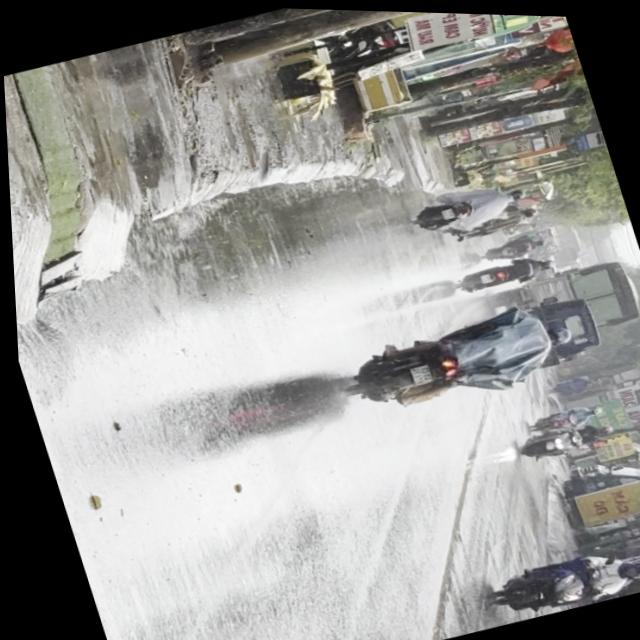helmet: (544, 319, 574, 344), (617, 552, 640, 579)
licenseplate: (327, 285, 591, 429), (477, 529, 640, 625)
nohelmet: (407, 360, 432, 383)
